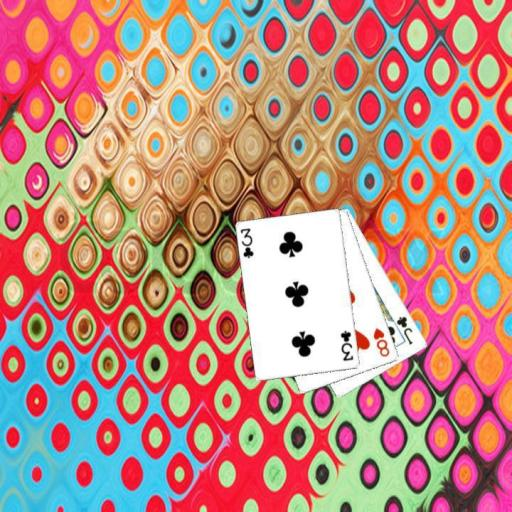card-corner: (393, 313, 415, 346), (371, 325, 391, 358), (337, 328, 355, 362), (238, 226, 256, 260)
